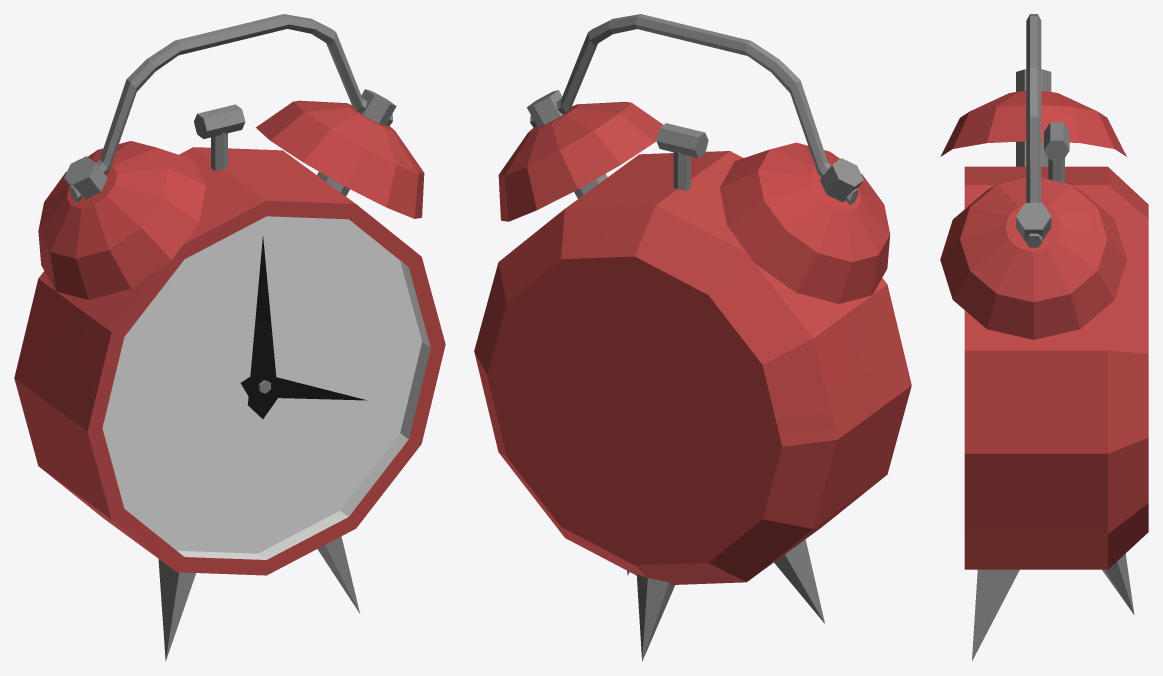
The model's file is alarm-clock.glb.
The picture shows the model from 3 angles, left to right: view 1: azimuth 30°, elevation 25°; view 2: azimuth 150°, elevation 25°; view 3: azimuth 270°, elevation 25°; orthographic projection. The views are drawn at different scales.
Visible parts, largest first — view 1: Alarm Clock; view 2: Alarm Clock; view 3: Alarm Clock.
Part boxes in pixels (<box>): Alarm Clock: <box>14,14,445,661</box>; Alarm Clock: <box>474,14,911,661</box>; Alarm Clock: <box>940,14,1148,660</box>.
Bounding box in the file's own units: 0.0981 × 0.1516 × 0.05.
1 material, 1 textured.
